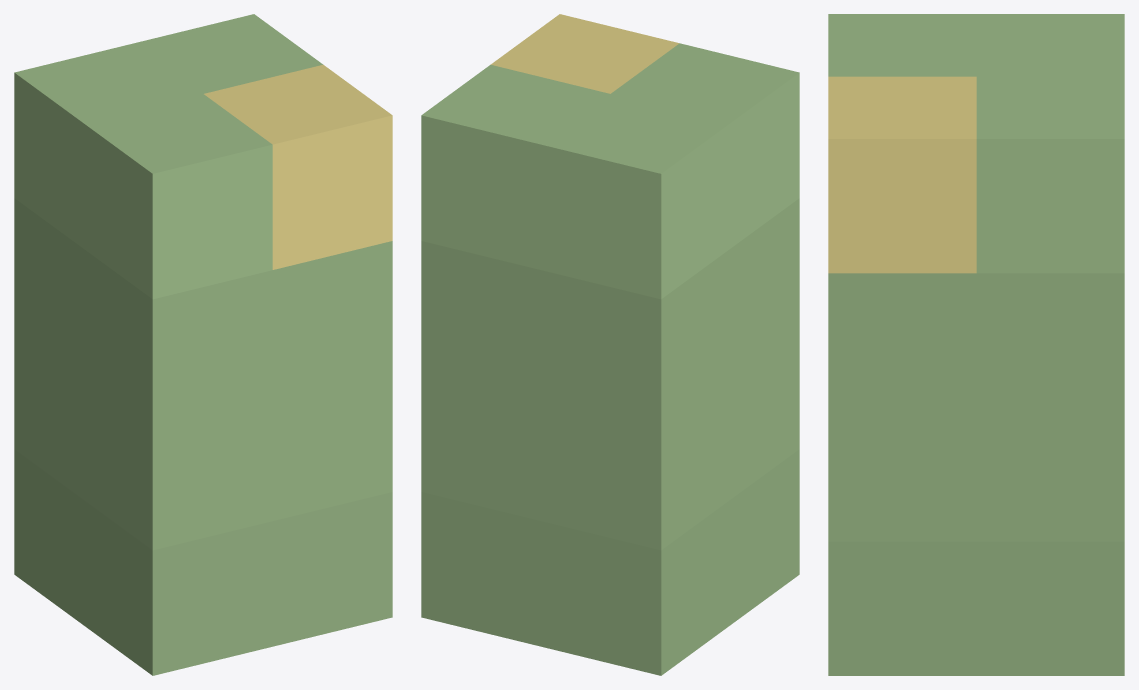
File: decor_bush_a.glb
3 views of the same model, side by side, from view 1: azimuth 30°, elevation 25°; view 2: azimuth 150°, elevation 25°; view 3: azimuth 270°, elevation 25° (orthographic). The views are drawn at different scales.
Visible parts, largest first — view 1: decor_bush_a; view 2: decor_bush_a; view 3: decor_bush_a.
Boxes of the visible parts, x1,y1,x2,y2 form: decor_bush_a: (14, 14, 392, 675); decor_bush_a: (421, 14, 799, 675); decor_bush_a: (828, 14, 1124, 675).
Bounding box in the file's own units: 0.25 × 0.5 × 0.25.
